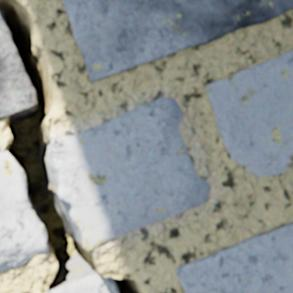brick: (62, 0, 292, 82), (204, 50, 292, 177), (175, 222, 292, 292), (0, 7, 35, 119), (45, 271, 118, 292)
broken_brick: (48, 97, 209, 251), (0, 151, 48, 271)
crack: (0, 2, 95, 290), (114, 278, 138, 292)
